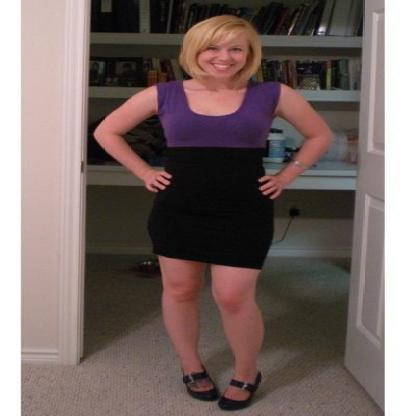dress: (148, 78, 282, 268)
shoe: (182, 375, 266, 410)
